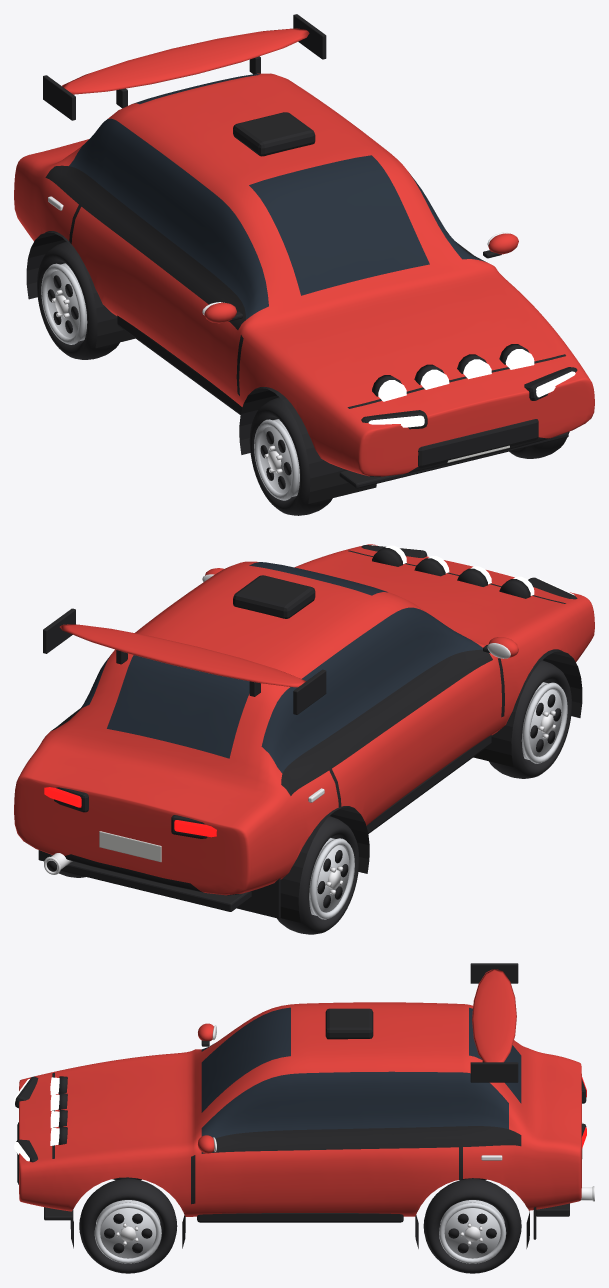
File: ostwind_mid.glb
3 renders of one model, top to bottom at view 1: azimuth 30°, elevation 25°; view 2: azimuth 150°, elevation 25°; view 3: azimuth 270°, elevation 25°, orthographic. The views are drawn at different scales.
Visible parts, largest first — view 1: body, wheel_rr, wheel_fr; view 2: body, wheel_fr, wheel_rr; view 3: body, wheel_rl, wheel_fl.
Part boxes in pixels (bbox=[...]): body: bbox=[14, 14, 594, 503]; wheel_rr: bbox=[37, 241, 119, 359]; wheel_fr: bbox=[249, 397, 332, 515]; body: bbox=[14, 544, 594, 922]; wheel_fr: bbox=[489, 660, 571, 778]; wheel_rr: bbox=[277, 816, 359, 934]; body: bbox=[14, 963, 594, 1248]; wheel_rl: bbox=[423, 1178, 521, 1273]; wheel_fl: bbox=[79, 1178, 177, 1273].
Size of the model in its own units: 2.2 by 1.76 by 4.39.
